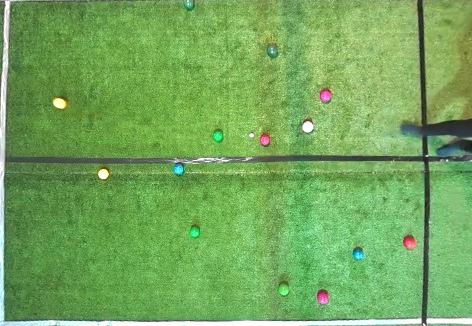blue: (353, 249, 364, 261), (173, 164, 184, 175)
green: (183, 0, 196, 11), (278, 284, 289, 296), (267, 45, 278, 57), (190, 227, 200, 238), (213, 131, 223, 142)
red: (404, 236, 416, 250), (317, 292, 329, 305), (302, 121, 314, 133), (320, 90, 332, 102), (260, 135, 270, 145)
vline: (422, 137, 471, 325), (417, 0, 471, 127), (0, 0, 14, 325)
white: (249, 133, 254, 138)
yellow: (53, 98, 67, 109), (98, 169, 109, 179)
